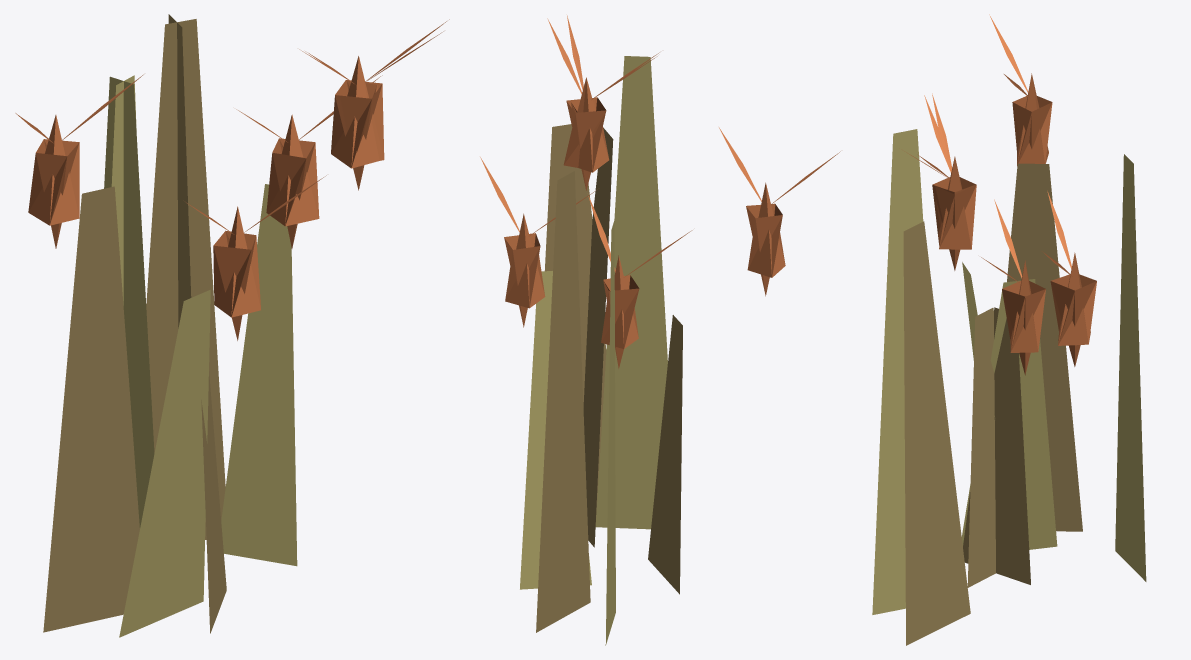
File: nong.dao@fruiting__autumn.glb
The picture shows the model from 3 angles, left to right: view 1: azimuth 30°, elevation 25°; view 2: azimuth 150°, elevation 25°; view 3: azimuth 270°, elevation 25°; orthographic projection. The views are drawn at different scales.
Parts seen in each view (by area): view 1: nong.dao@fruiting__autumn; view 2: nong.dao@fruiting__autumn; view 3: nong.dao@fruiting__autumn.
Boxes of the visible parts, x1,y1,x2,y2 form: nong.dao@fruiting__autumn: (15,14,449,637); nong.dao@fruiting__autumn: (480,15,840,645); nong.dao@fruiting__autumn: (872,14,1146,645).
Bounding box in the file's own units: 0.7703 × 1.07 × 0.5942.
